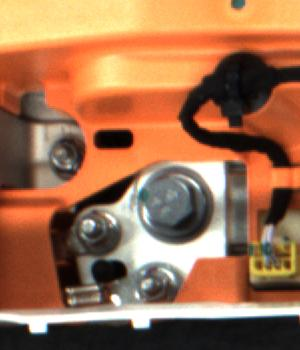nut_b: (138, 165, 220, 239)
